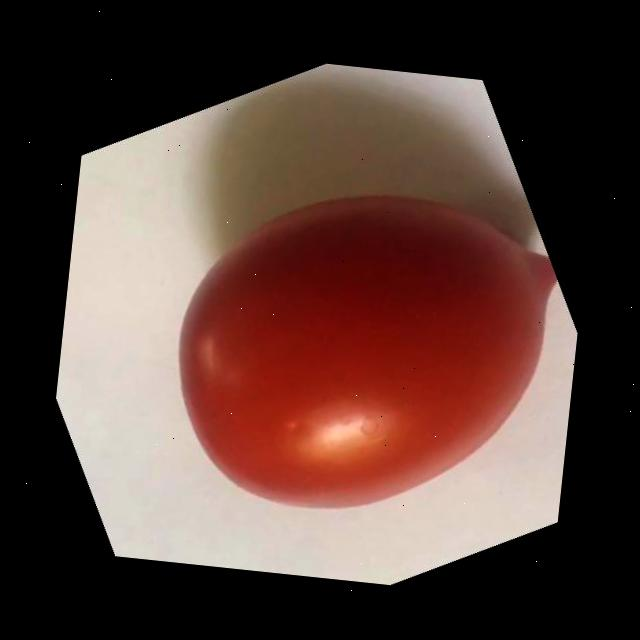tomato: (151, 172, 572, 536)
